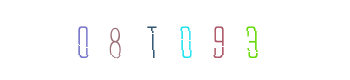3: (212, 0, 292, 80)
8: (112, 0, 192, 80)
9: (146, 0, 226, 80)
O: (89, 0, 169, 80), (135, 0, 215, 80)
T: (132, 0, 212, 80)
